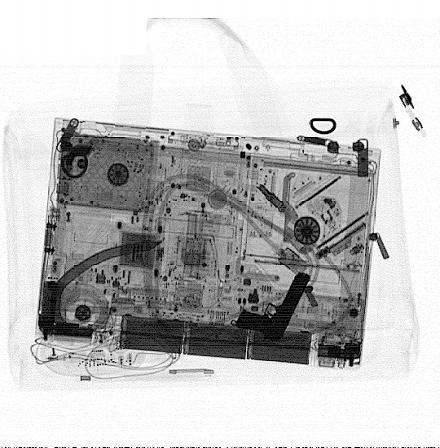Gun: (235, 269, 313, 341)
